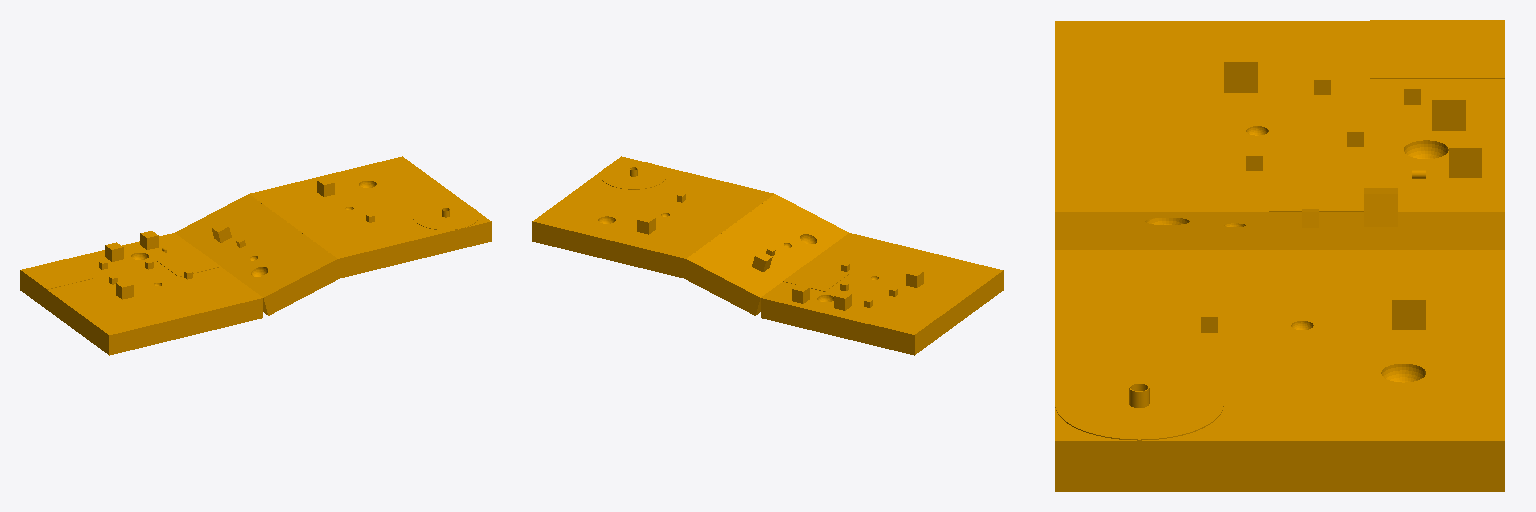
robot.urdf — galileo:
<?xml version="1.0"?>
<robot xmlns:xacro="http://www.ros.org/wiki/xacro" name="galileo">
  <link name="arena">
    <visual name="">
      <origin xyz="0.0 0.0 0.0" rpy="0.0 0.0 0.0"/>
      <geometry>
        <mesh filename="package://galileo_description/meshes/arena.stl" scale="0.001 0.001 0.001"/>
      </geometry>
    </visual>
  </link>
  <link name="world"></link>
  <joint name="world_joint" type="fixed">
    <origin xyz="0.0 0.0 0.0" rpy="0.0 0.0 0.0"/>
    <parent link="world"/>
    <child link="arena"/>
  </joint>
</robot>

--- Facts derived from the render (not from the file) ---
3 views of the same robot in one strip: view 1: azimuth 30°, elevation 25°; view 2: azimuth 150°, elevation 25°; view 3: azimuth 270°, elevation 25° (orthographic).
Robot: galileo — 2 links, 1 joints (1 fixed); root link world; default pose: every joint at zero.
Links seen in each view (by area): view 1: arena; view 2: arena; view 3: arena.
Link boxes in pixels (x1=…): arena: x1=20, y1=156, x2=491, y2=355; arena: x1=532, y1=156, x2=1003, y2=355; arena: x1=1055, y1=20, x2=1504, y2=491.
Bounding box of the posed robot: 9.92 × 4 × 1.31 m (x, y, z).
Meshes: 1 distinct files referenced, 1 mesh visuals loaded (1 binary STL).